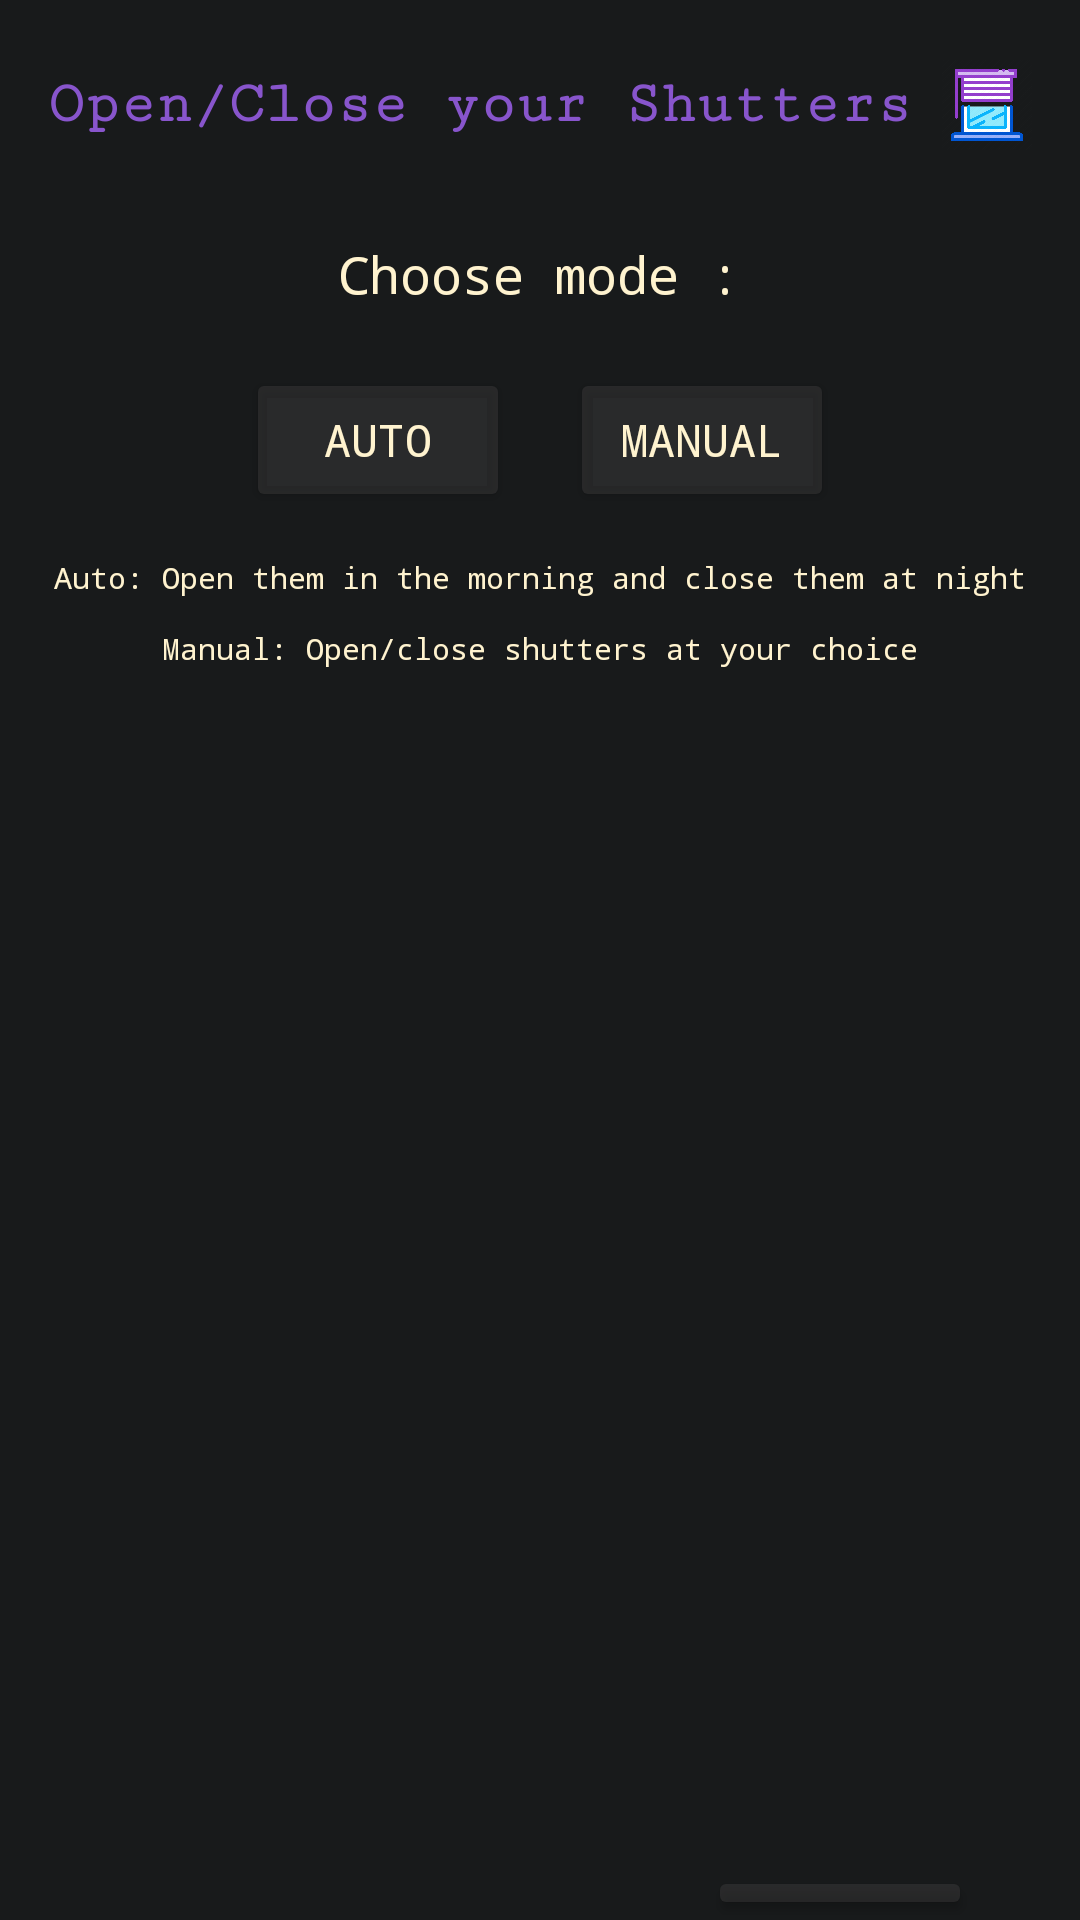

Point at icon controls on the screen. Image size 1080×1920, points as point (x, y).
modern shutters: point (987, 105)
